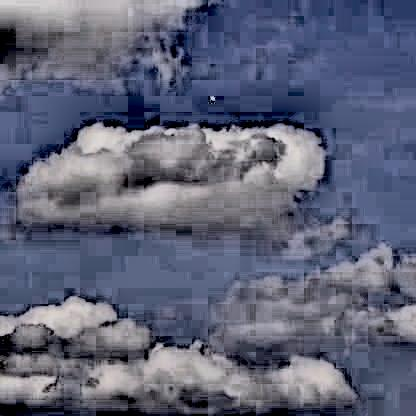golfball: (207, 93, 211, 100)
